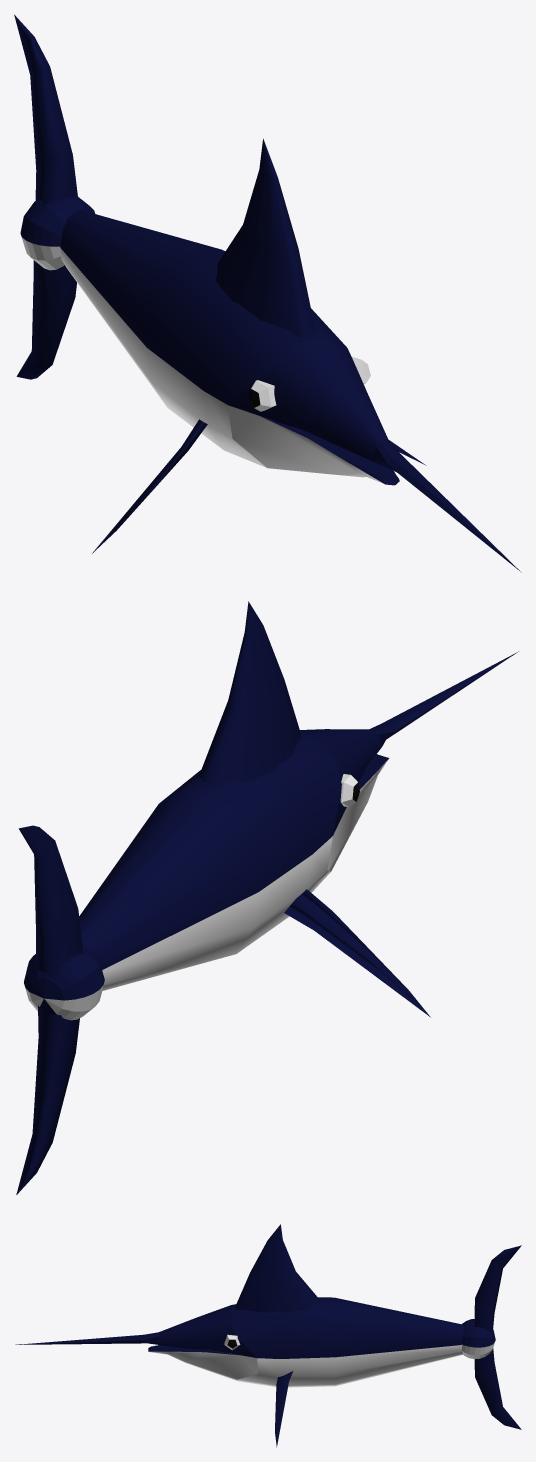
File: Espadon.fbx
3 views of the same model, one above another, from view 1: azimuth 30°, elevation 25°; view 2: azimuth 150°, elevation 25°; view 3: azimuth 270°, elevation 25° (orthographic). The views are drawn at different scales.
Visible parts, largest first — view 1: corps, dorsale, queue_haut, queue_bas, queue_centre, nageoire_droite, oeuil_droit; view 2: corps, dorsale, queue_haut, queue_bas, queue_centre, nageoire_droite; view 3: corps, dorsale, queue_haut, queue_bas, queue_centre, nageoire_gauche.
Part boxes in pixels (<box>): corps: <box>60,210,521,572</box>; dorsale: <box>215,138,315,337</box>; queue_haut: <box>14,14,77,206</box>; queue_bas: <box>16,260,76,379</box>; queue_centre: <box>20,196,95,270</box>; nageoire_droite: <box>92,419,207,553</box>; oeuil_droit: <box>248,380,276,411</box>; corps: <box>79,651,518,990</box>; dorsale: <box>199,601,301,784</box>; queue_haut: <box>18,825,83,979</box>; queue_bas: <box>16,1005,79,1194</box>; queue_centre: <box>24,946,104,1020</box>; nageoire_droite: <box>284,889,430,1017</box>; corps: <box>15,1297,464,1387</box>; dorsale: <box>235,1224,319,1312</box>; queue_haut: <box>474,1245,521,1331</box>; queue_bas: <box>474,1348,521,1429</box>; queue_centre: <box>461,1319,495,1358</box>; nageoire_gauche: <box>275,1371,292,1447</box>.
Size of the model in its own units: 4.36 by 5.09 by 11.26.
